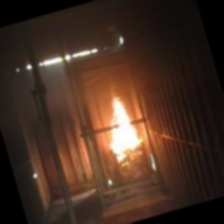fire: (94, 90, 143, 161)
